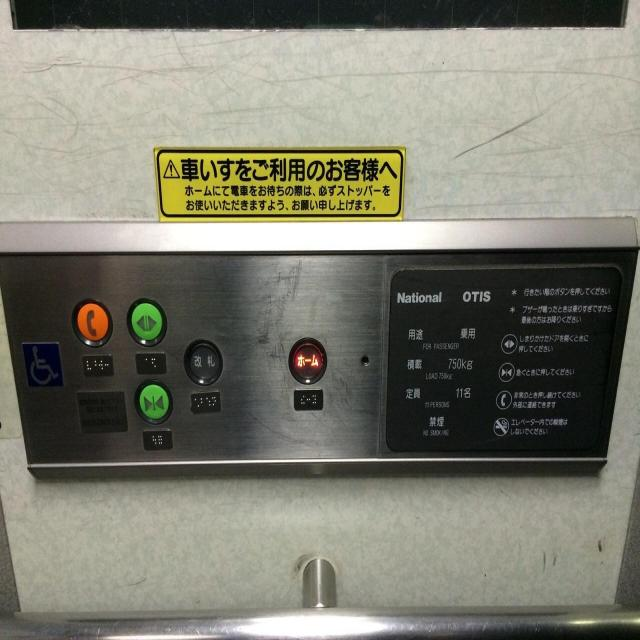CH: (20, 337, 64, 388)
call: (70, 298, 114, 347)
close: (133, 376, 173, 426)
open: (125, 297, 167, 347)
text: (286, 334, 330, 385), (182, 337, 224, 387)
